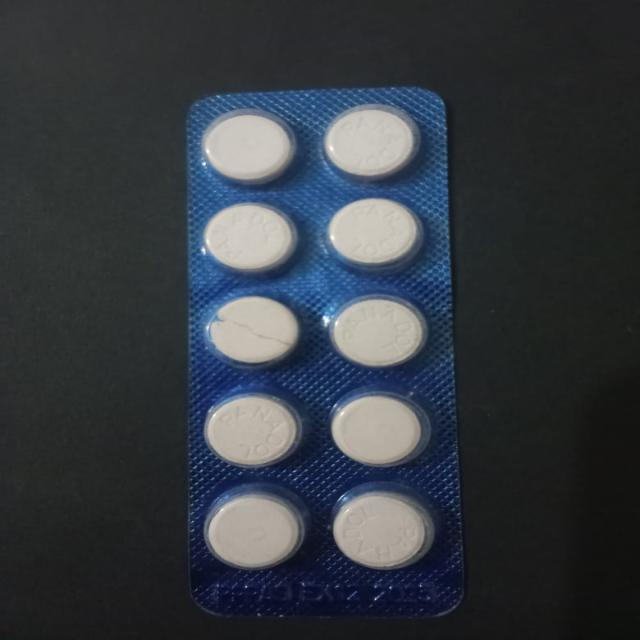defect: (201, 292, 305, 373)
